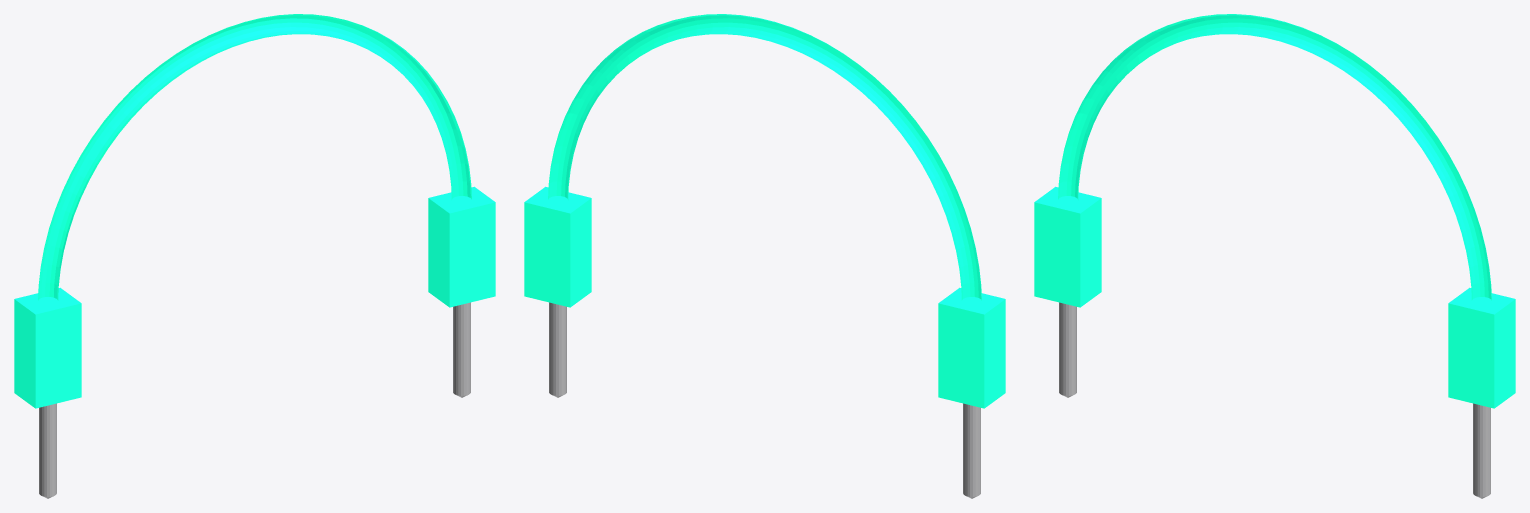
Rendered from cable_parche_verde.glb.
The picture shows the model from 3 angles, left to right: view 1: azimuth 30°, elevation 25°; view 2: azimuth 150°, elevation 25°; view 3: azimuth 330°, elevation 25°; orthographic projection.
Parts seen in each view (by area): view 1: Cable_Arco, Cuerpo_Plug_Izq, Cuerpo_Plug_Der, Pin_Izq, Pin_Der; view 2: Cable_Arco, Cuerpo_Plug_Izq, Cuerpo_Plug_Der, Pin_Izq, Pin_Der; view 3: Cable_Arco, Cuerpo_Plug_Izq, Cuerpo_Plug_Der, Pin_Izq, Pin_Der.
Part boxes in pixels (left/top/right/bottom): Cable_Arco: left=38, top=14, right=471, bottom=300; Cuerpo_Plug_Izq: left=14, top=287, right=81, bottom=408; Cuerpo_Plug_Der: left=428, top=186, right=495, bottom=307; Pin_Izq: left=39, top=403, right=56, bottom=498; Pin_Der: left=453, top=302, right=470, bottom=397; Cable_Arco: left=548, top=14, right=981, bottom=300; Cuerpo_Plug_Izq: left=938, top=287, right=1005, bottom=408; Cuerpo_Plug_Der: left=524, top=186, right=591, bottom=307; Pin_Izq: left=963, top=403, right=980, bottom=498; Pin_Der: left=549, top=302, right=566, bottom=397; Cable_Arco: left=1058, top=14, right=1491, bottom=300; Cuerpo_Plug_Izq: left=1034, top=186, right=1101, bottom=307; Cuerpo_Plug_Der: left=1448, top=287, right=1515, bottom=408; Pin_Izq: left=1059, top=302, right=1076, bottom=397; Pin_Der: left=1473, top=403, right=1490, bottom=498.
Bounding box in the file's own units: 0.0998 × 0.0887 × 0.008.
